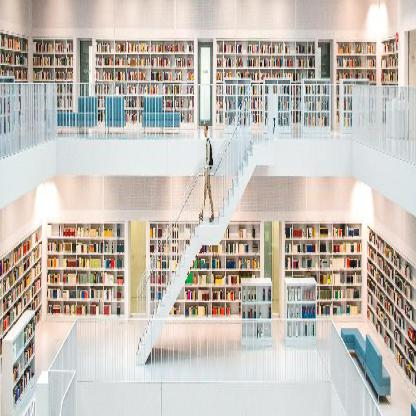book: (94, 38, 194, 122), (384, 242, 415, 386), (32, 40, 75, 122), (336, 36, 376, 124), (291, 38, 328, 124), (0, 245, 24, 372), (0, 31, 29, 135), (74, 218, 102, 325), (214, 38, 249, 122), (46, 220, 75, 314), (333, 221, 361, 315), (150, 225, 178, 316), (305, 224, 333, 315), (210, 224, 238, 314), (184, 225, 210, 316), (101, 220, 124, 318), (248, 36, 273, 126), (272, 38, 296, 124), (366, 229, 384, 340), (23, 223, 42, 325), (12, 322, 34, 408), (380, 27, 398, 124), (286, 283, 314, 340), (284, 222, 306, 285), (238, 222, 262, 274), (241, 283, 271, 319), (237, 279, 240, 318), (260, 322, 264, 343), (257, 320, 260, 341)
